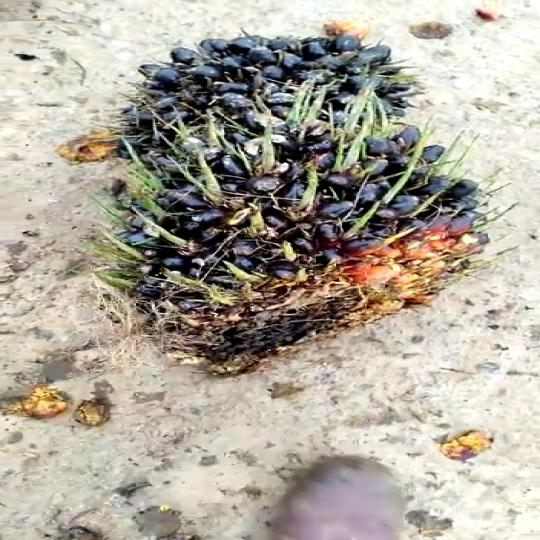mentah: (94, 126, 500, 374), (97, 22, 444, 153)
